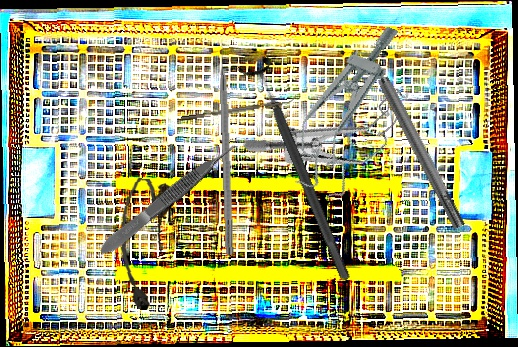Cannula: (111, 176, 173, 312)
Chopper: (180, 94, 298, 121)
Fixation Ring: (235, 53, 363, 287), (350, 38, 474, 235)
Hook Surgical: (218, 38, 236, 256)
Speculum: (241, 42, 428, 218), (279, 10, 412, 204)
Tissue Forceps: (95, 139, 242, 259)
